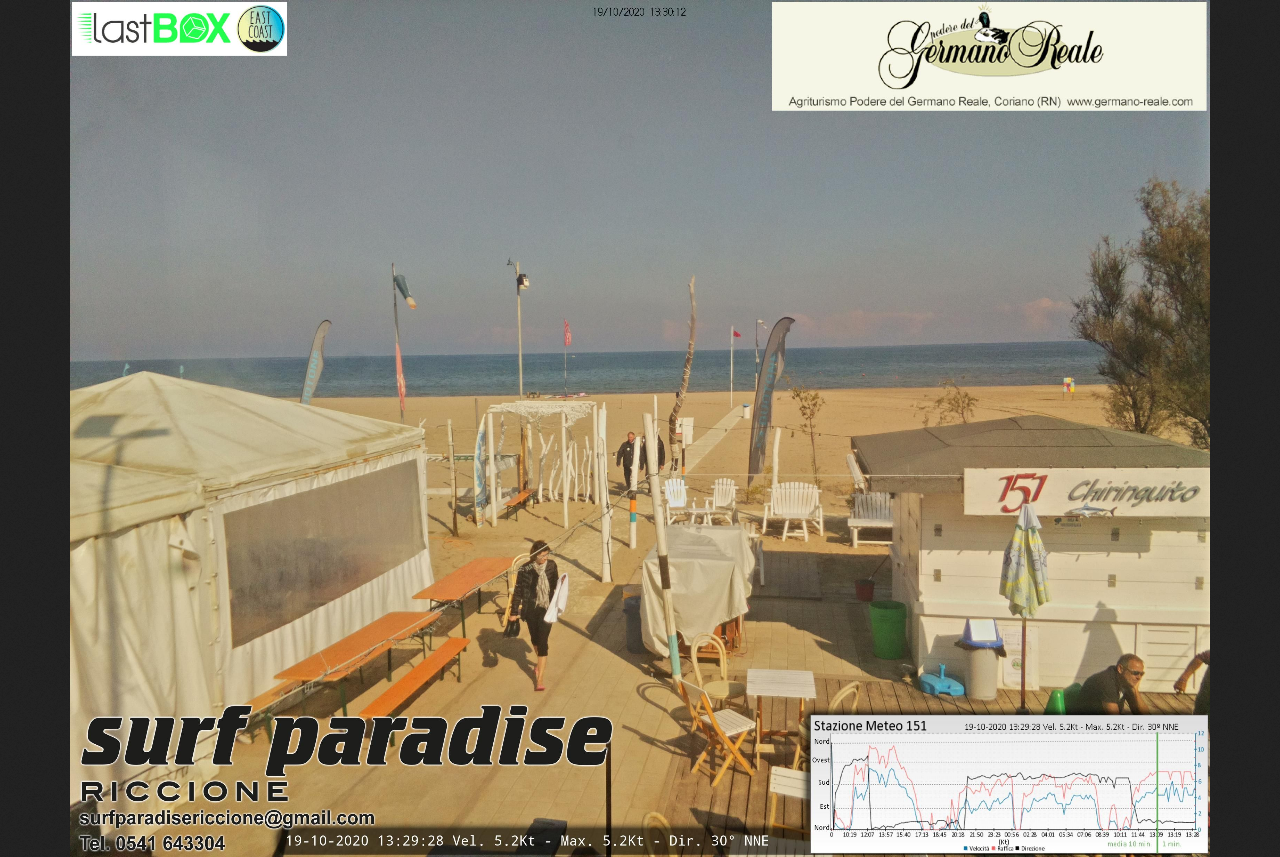no: (561, 318, 575, 345)
